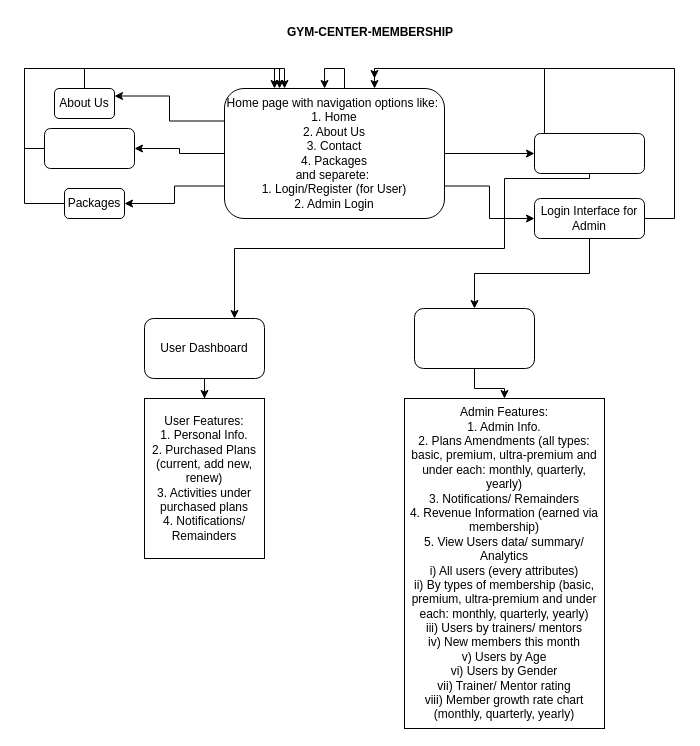
This 700x746 diagram has some shape labels left out. Here are the shapes that lost their labels. From the top down, the centre of each, then its label:
point 89,148: Contact (user have to leave mail id)
point 589,153: Login/ Register Interface
point 474,338: Admin Dashboard
